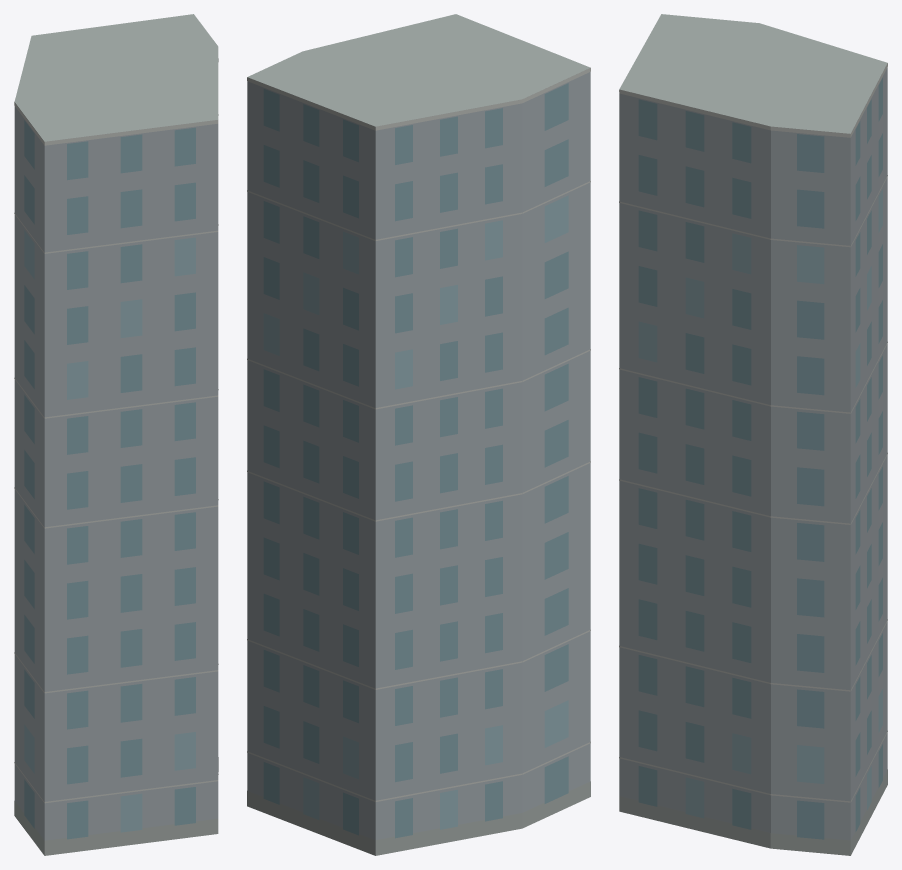
Rendered from residential-04a3a8b2-1022-451e-b7b7-c8d1fae8dbae.glb.
3 renders of one model, left to right at view 1: azimuth 30°, elevation 25°; view 2: azimuth 150°, elevation 25°; view 3: azimuth 270°, elevation 25°, orthographic. The views are drawn at different scales.
Visible parts, largest first — view 1: residential-04a3a8b2-1022-451e-b7b7-c8d1fae8dbae.tmp; view 2: residential-04a3a8b2-1022-451e-b7b7-c8d1fae8dbae.tmp; view 3: residential-04a3a8b2-1022-451e-b7b7-c8d1fae8dbae.tmp.
Part boxes in pixels (x1=…): residential-04a3a8b2-1022-451e-b7b7-c8d1fae8dbae.tmp: x1=14, y1=14, x2=218, y2=855; residential-04a3a8b2-1022-451e-b7b7-c8d1fae8dbae.tmp: x1=247, y1=14, x2=590, y2=855; residential-04a3a8b2-1022-451e-b7b7-c8d1fae8dbae.tmp: x1=619, y1=14, x2=887, y2=855.
Size of the model in its own units: 15.68 by 44 by 14.86.
